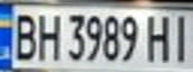3: (63, 10, 84, 62)
8: (103, 11, 124, 63)
9: (118, 11, 145, 63), (81, 11, 103, 62)
B: (6, 9, 39, 62)
H: (142, 11, 175, 63), (33, 9, 63, 62)
I: (166, 11, 193, 62)
